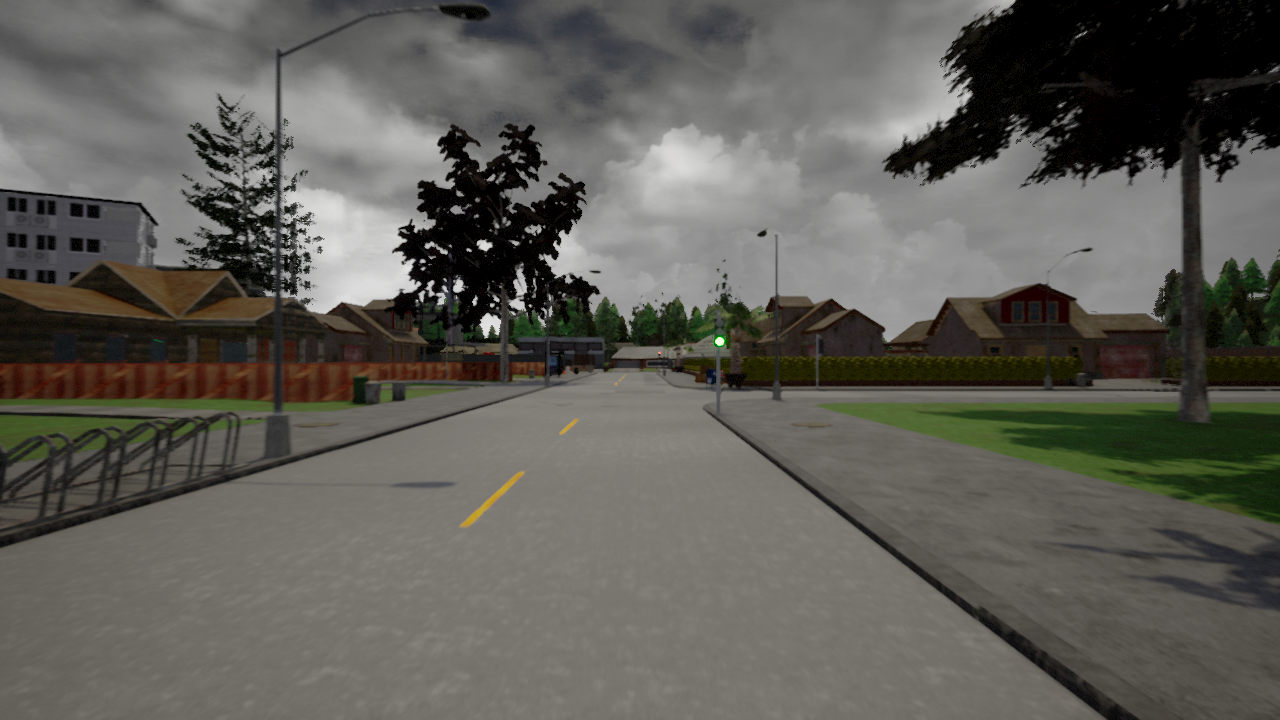green: (714, 318, 725, 346)
